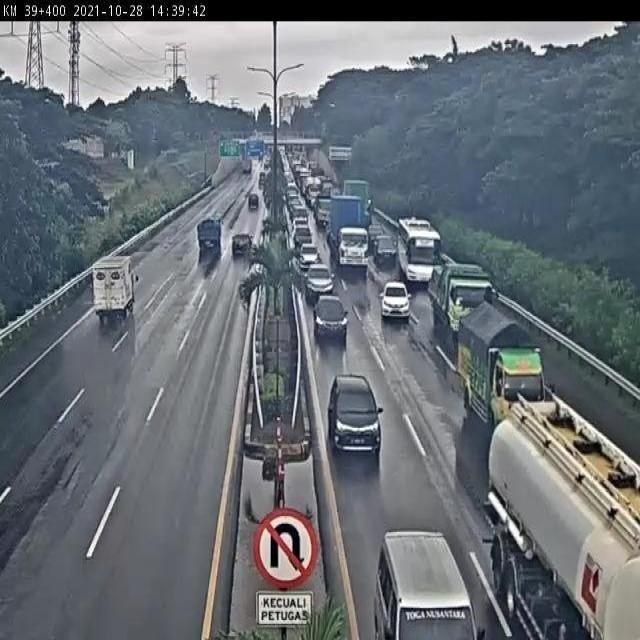Bus: (395, 216, 442, 289)
Car: (326, 374, 384, 461), (312, 294, 350, 344), (379, 280, 411, 323), (304, 262, 334, 306), (372, 234, 398, 268), (298, 240, 320, 272), (316, 196, 332, 231), (231, 230, 252, 256)
Truck: (487, 393, 640, 640), (458, 297, 548, 427), (428, 262, 496, 351), (326, 188, 372, 272), (92, 256, 137, 325), (197, 218, 221, 250)
Van: (376, 528, 487, 640)
